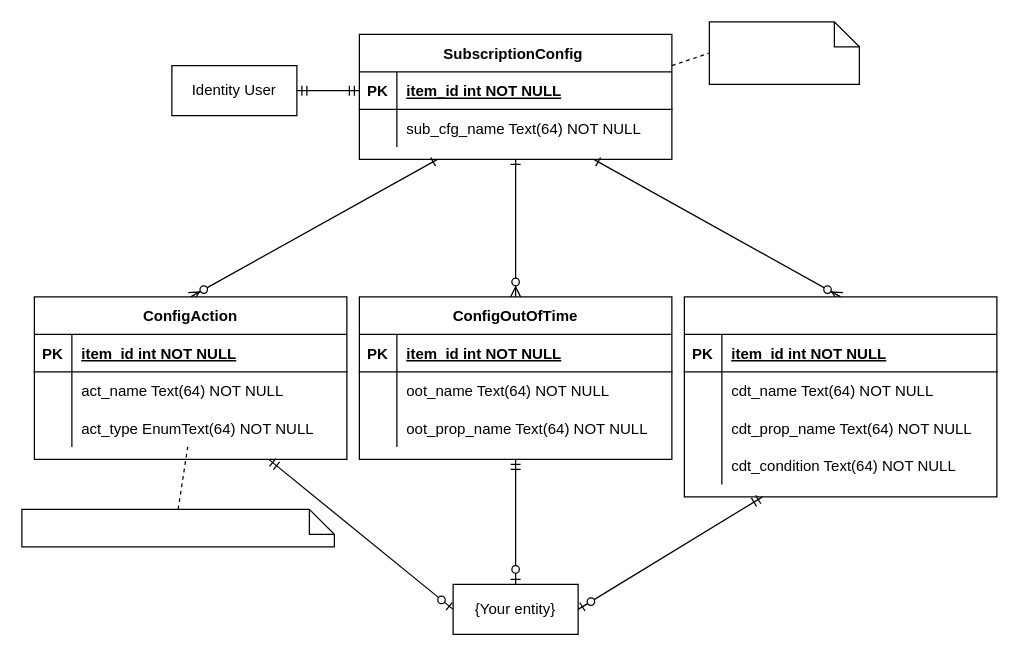
This 1019x656 diagram has some shape labels left out. Each missing label, with the box of its shape:
ConfigCondition: (683, 296, 997, 497)
Enum: [Create, Read, Delete, Update]: (21, 508, 334, 547)
One per user (Singleton): (708, 21, 859, 84)
